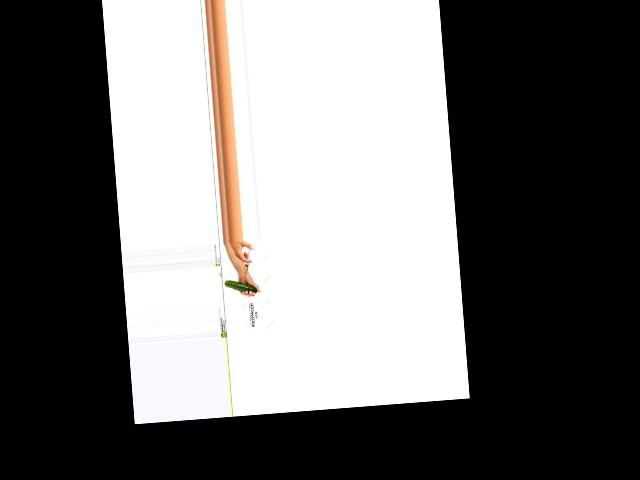cucumber: (224, 277, 257, 295)
